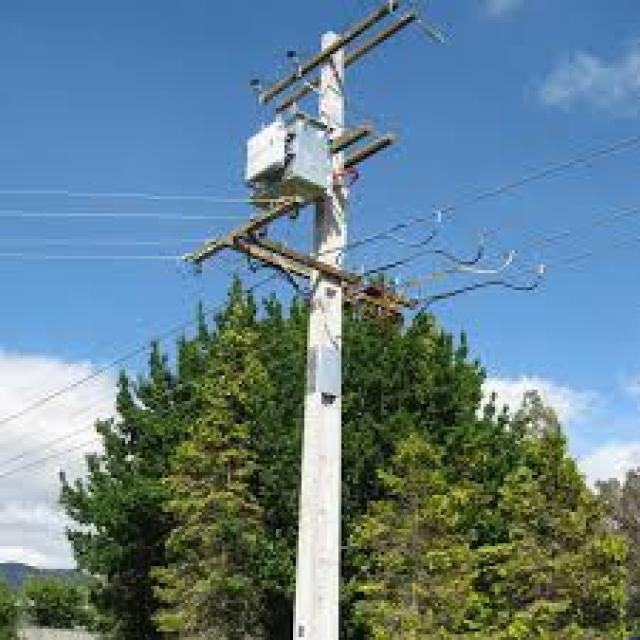light_pole: (233, 45, 452, 640)
